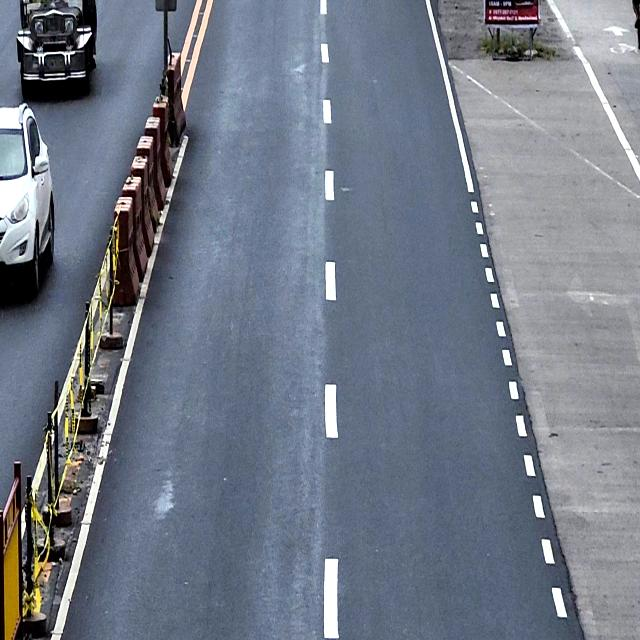Car: (0, 102, 55, 293)
Jeep: (16, 0, 97, 98)
